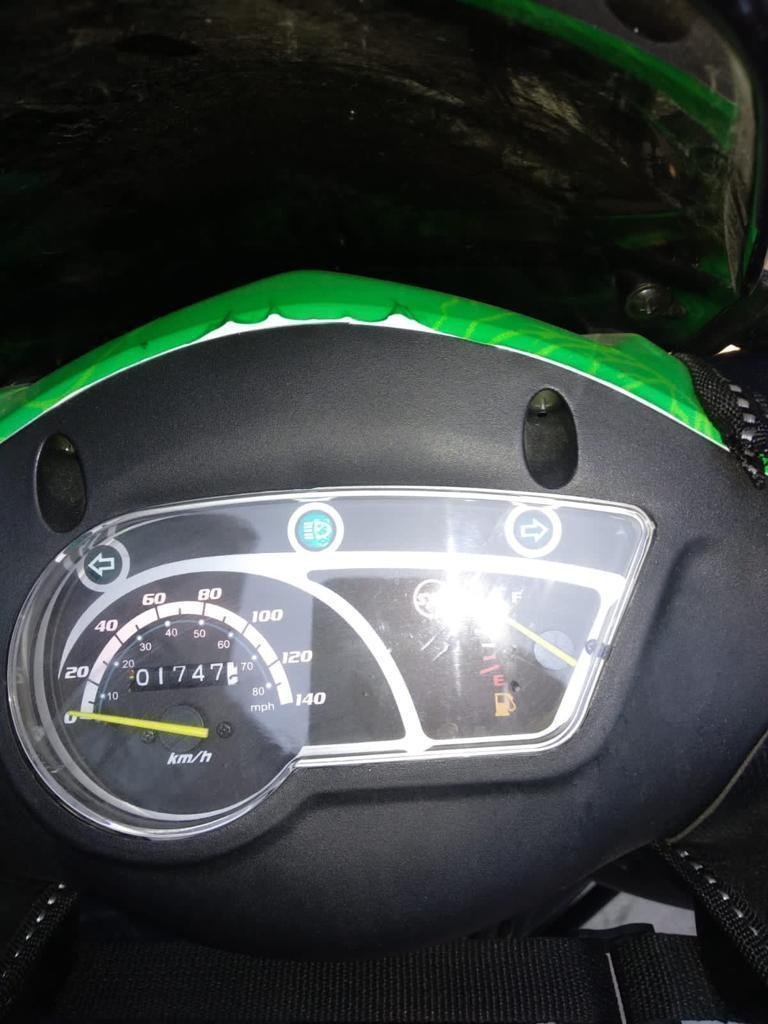0: (135, 666, 151, 689)
1: (156, 663, 165, 689)
2: (228, 672, 240, 688)
4: (191, 664, 205, 683)
7: (209, 661, 225, 683), (170, 663, 187, 683)
odometer: (132, 659, 240, 694)
